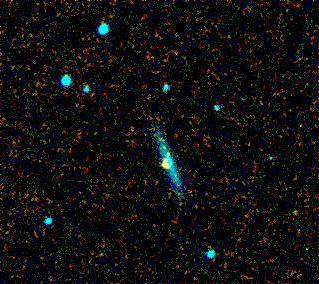star: (150, 149, 180, 179)
